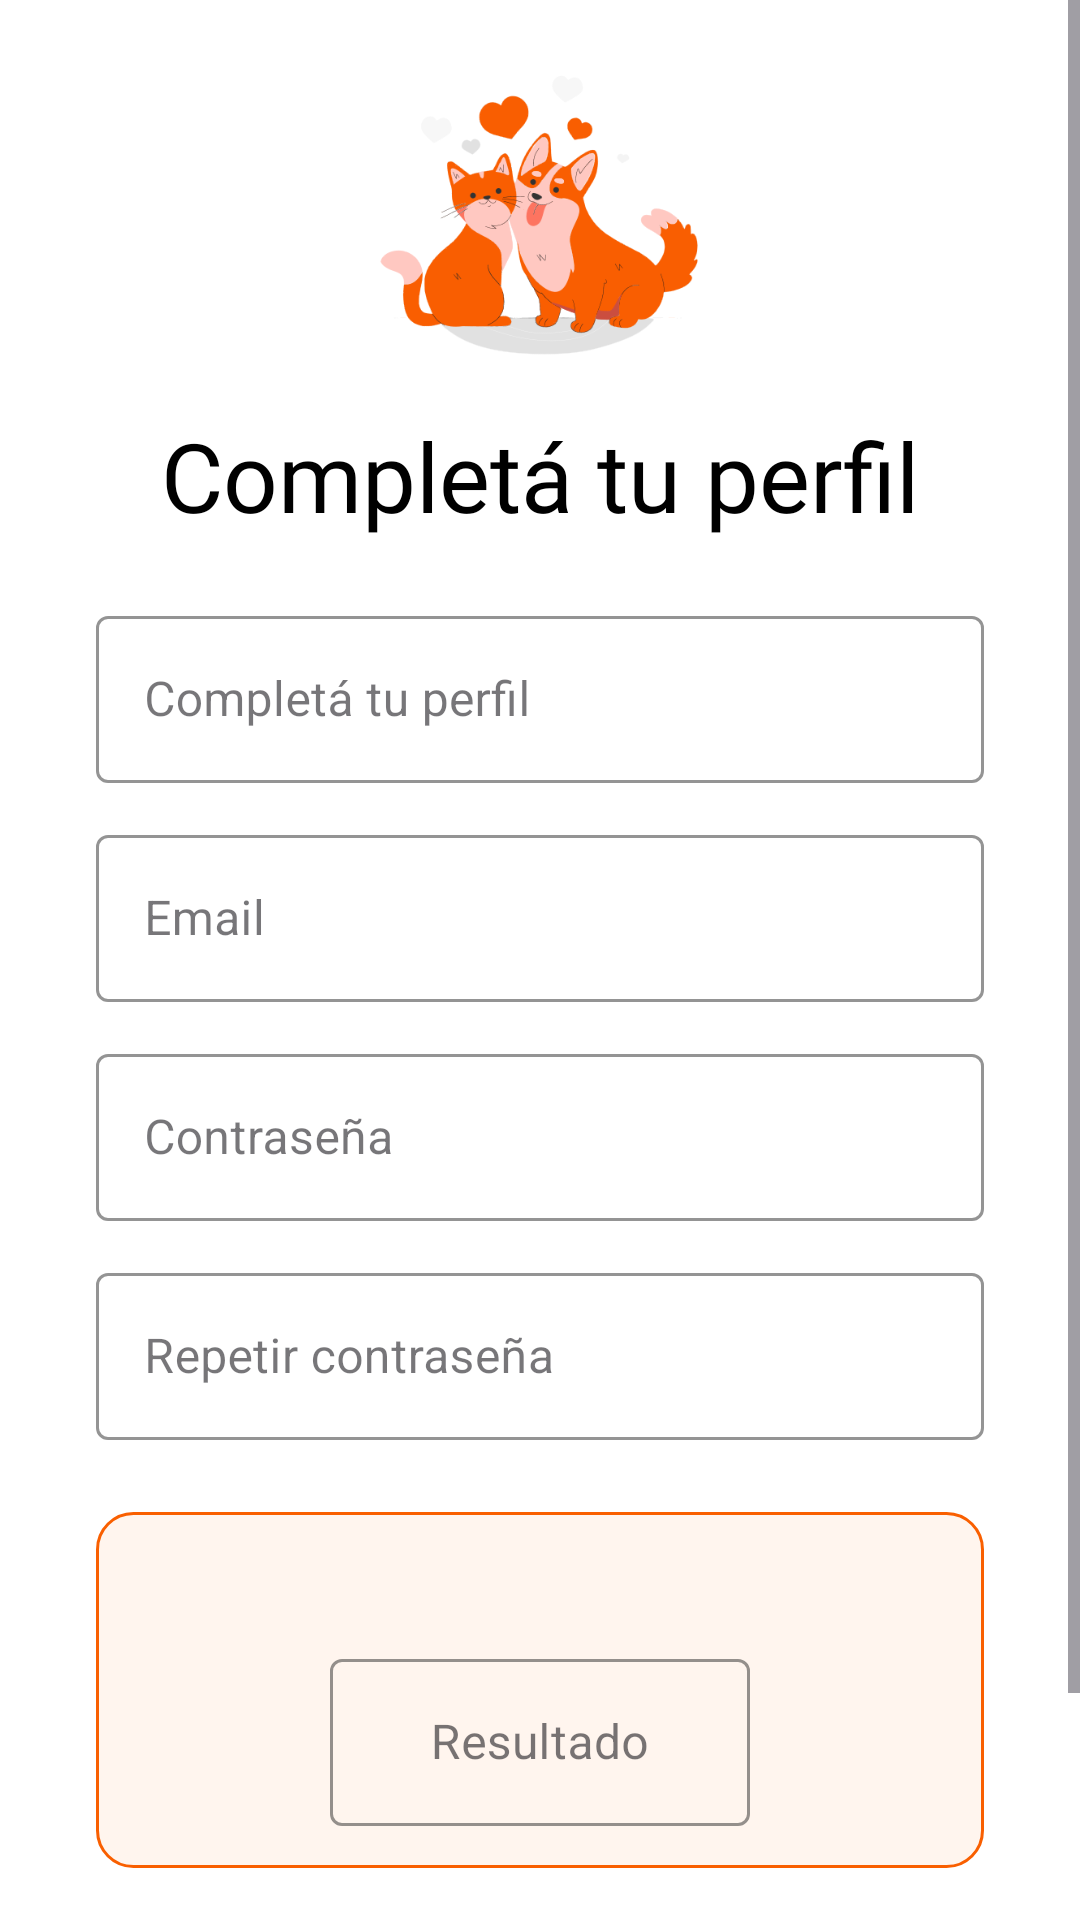

Icons on this 1080px x 1920px Android screen, each with the point to tap as (x,y):
ilustracion: (539,224)
